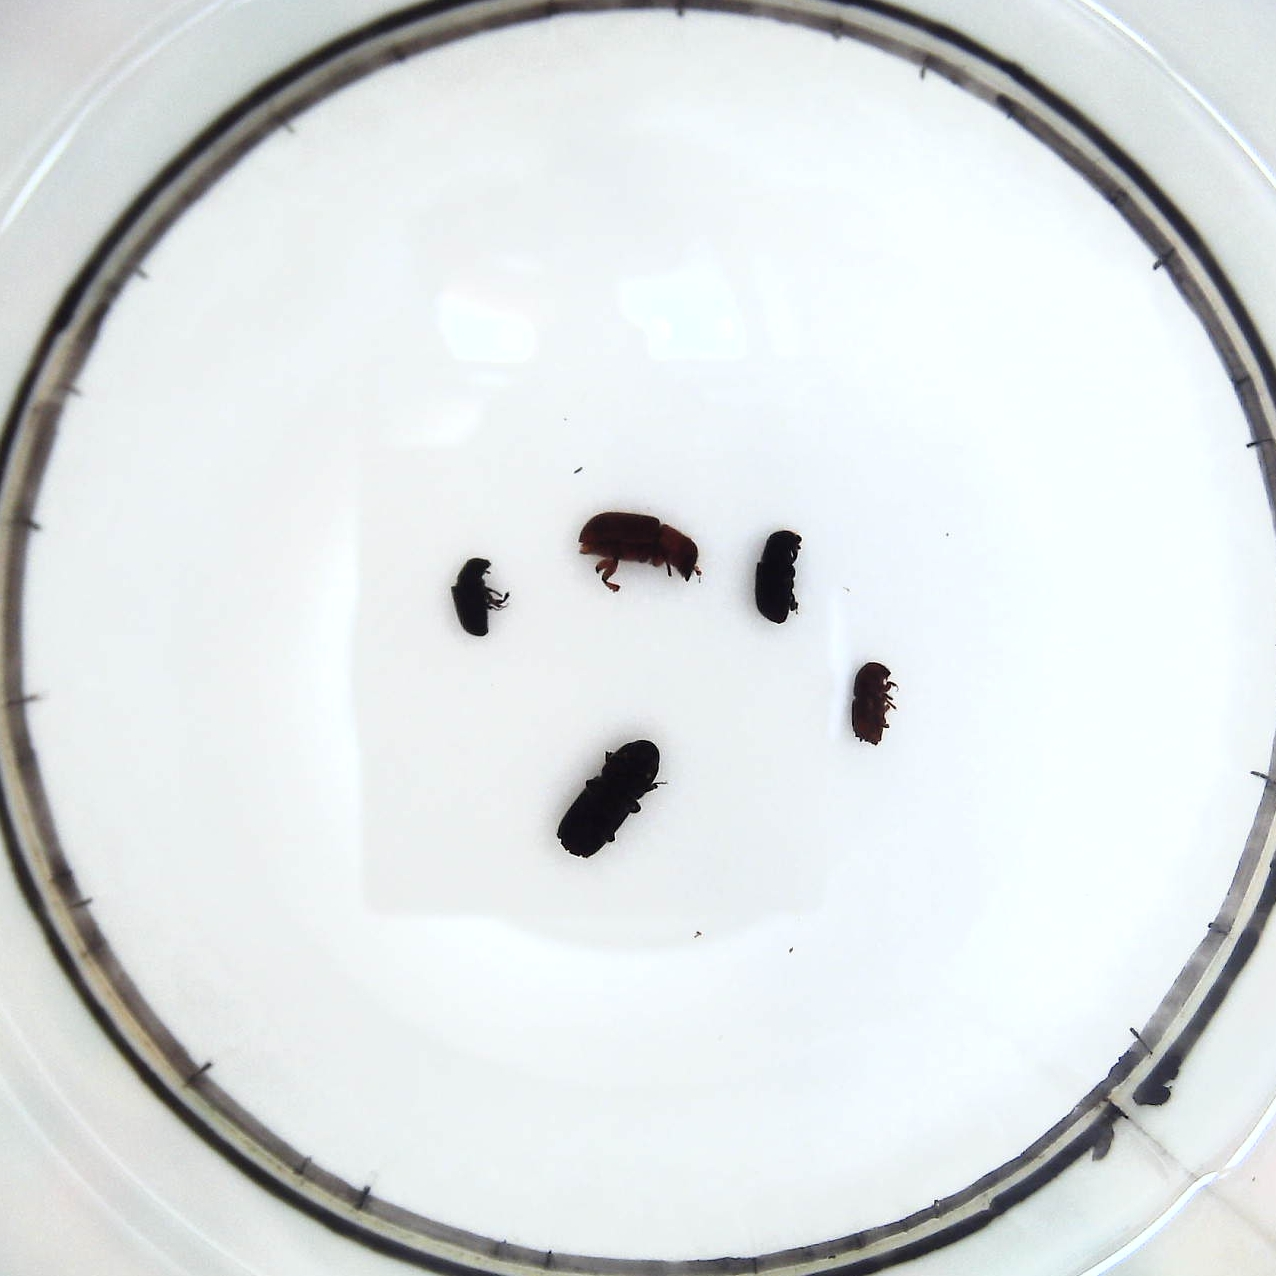Boerner: (550, 737, 672, 859)
Leconte: (574, 508, 706, 598)
armandi: (750, 525, 806, 627)
coleoptera: (452, 554, 518, 642)
linnaeus: (842, 659, 896, 753)
